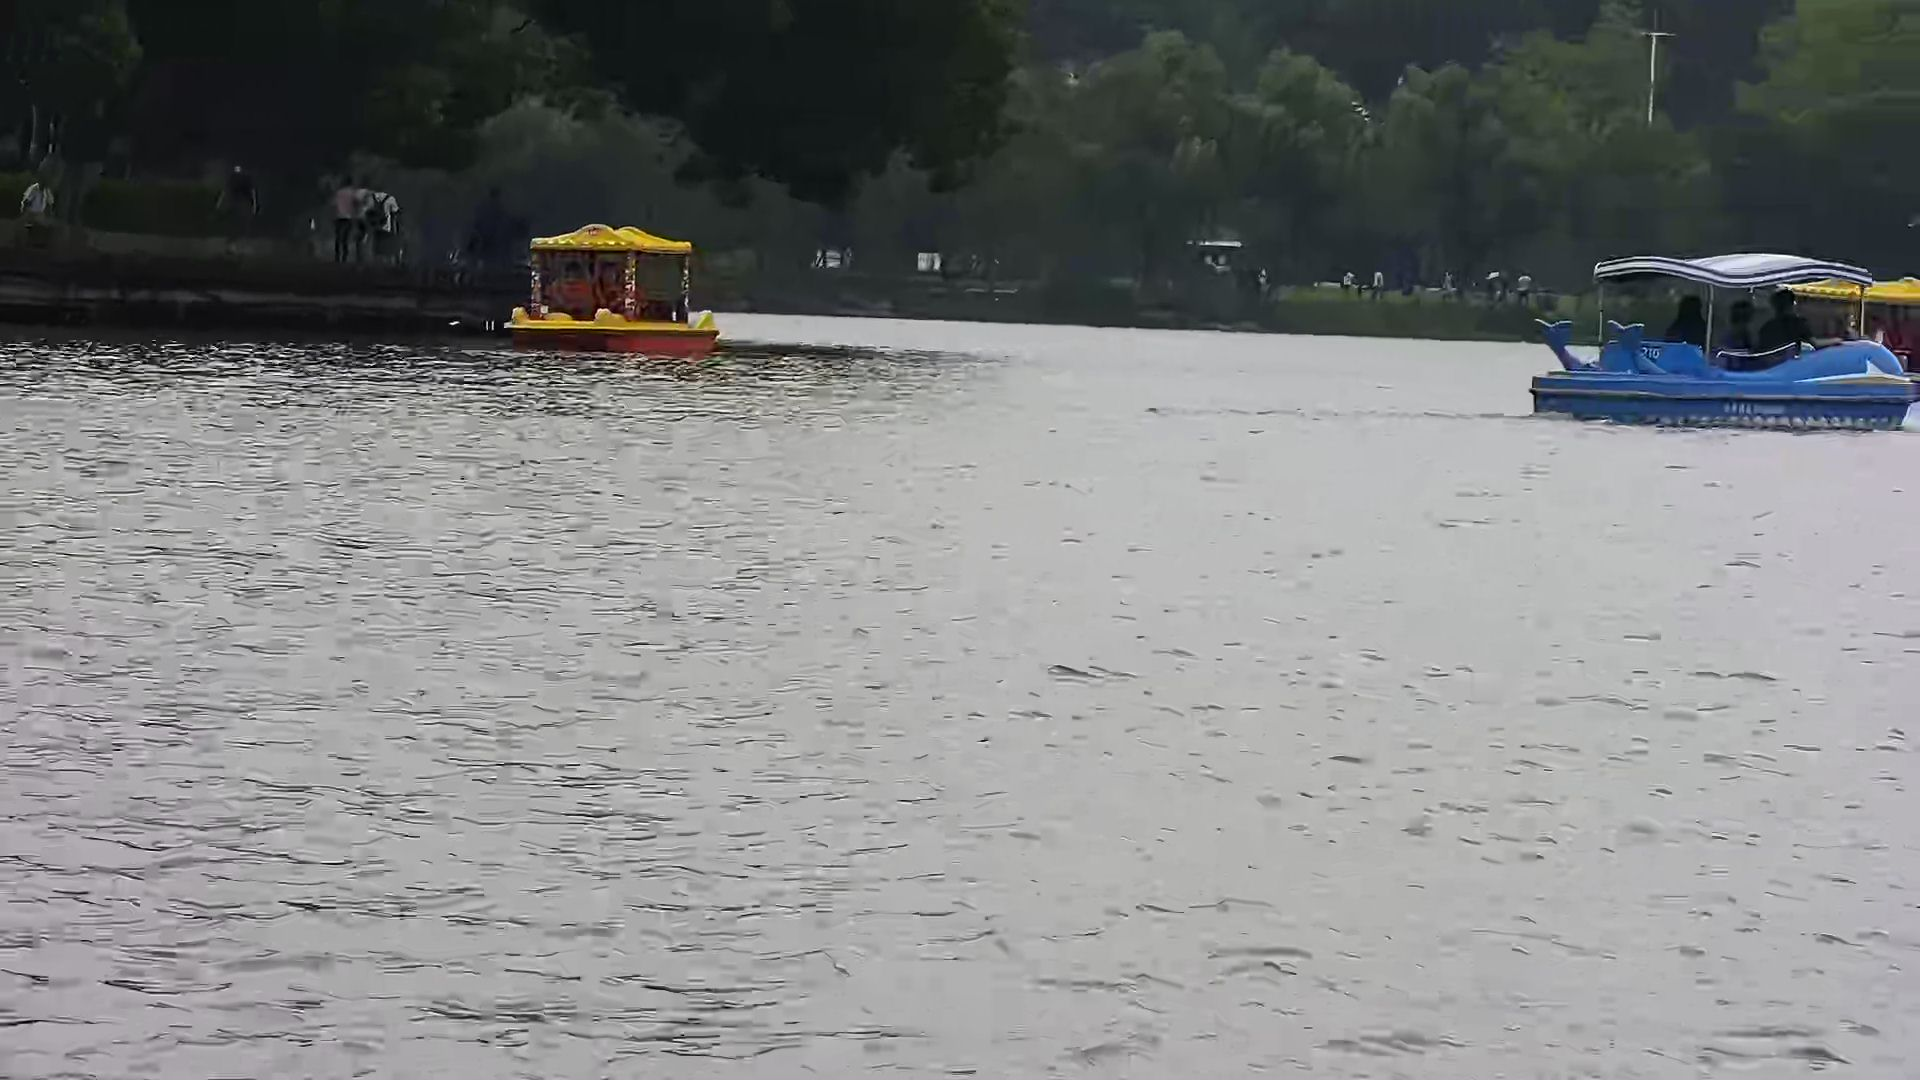boat: (1524, 244, 1909, 438), (500, 203, 723, 353)
